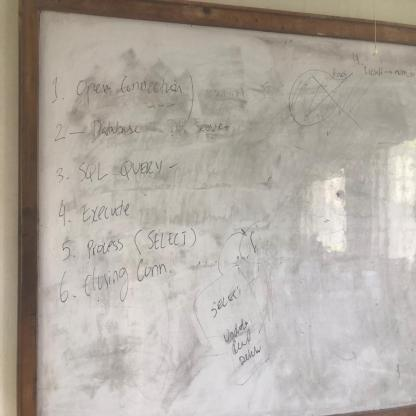Handwritten text: (72, 62, 188, 106), (78, 260, 174, 303), (77, 227, 192, 260), (74, 149, 167, 185), (88, 110, 143, 143), (79, 195, 138, 224)
Whiteboard: (30, 2, 416, 413)
